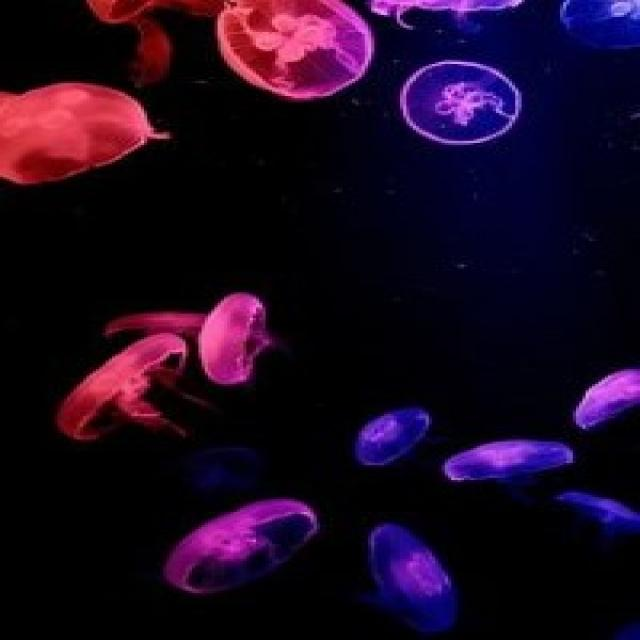Jellyfish: (160, 490, 326, 598), (0, 77, 157, 190), (208, 0, 373, 102), (58, 330, 178, 460), (352, 525, 476, 634), (187, 293, 298, 407), (393, 58, 531, 147), (349, 401, 440, 474), (448, 438, 580, 482), (550, 0, 640, 43)
